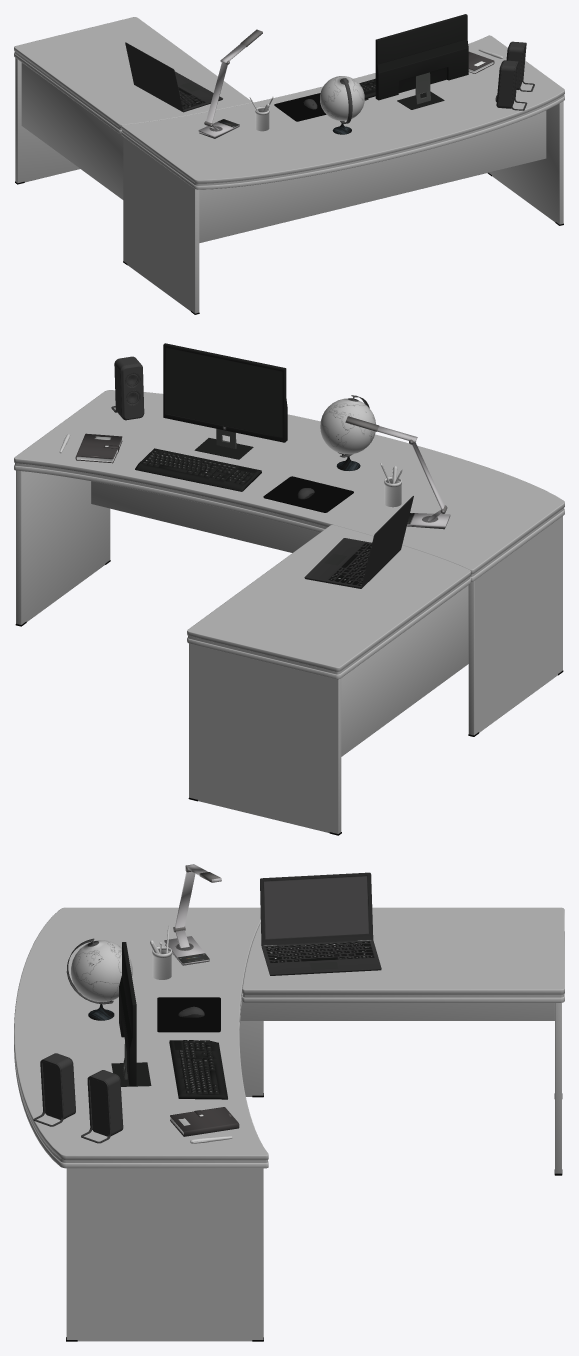
File: bureauComplet.fbx
3 views of the same model, one above another, from view 1: azimuth 30°, elevation 25°; view 2: azimuth 150°, elevation 25°; view 3: azimuth 270°, elevation 25° (orthographic). The views are drawn at different scales.
Parts seen in each view (by area): view 1: ExecutiveDesk, SM_Monitor, SM_Laptop, Globe2, DeskLamp, PCSpeaker01Right, SM_Mousepad, PCSpeaker01Left, Notebook; view 2: ExecutiveDesk, SM_Monitor, SM_Laptop, SM_Keyboard, Globe2, SM_Mousepad, PCSpeaker01Left, DeskLamp, Notebook; view 3: ExecutiveDesk, SM_Laptop, Globe2, SM_Keyboard, SM_Monitor, PCSpeaker01Right, PCSpeaker01Left, SM_Mousepad, DeskLamp, Notebook, SM_PencilPot.
Boxes of the visible parts, bbox=[...] form: ExecutiveDesk: bbox=[14, 17, 564, 314]; SM_Monitor: bbox=[375, 14, 468, 109]; SM_Laptop: bbox=[125, 42, 222, 112]; Globe2: bbox=[320, 76, 364, 134]; DeskLamp: bbox=[198, 29, 262, 138]; PCSpeaker01Right: bbox=[495, 60, 527, 110]; SM_Mousepad: bbox=[274, 93, 326, 121]; PCSpeaker01Left: bbox=[506, 41, 534, 91]; Notebook: bbox=[468, 51, 494, 73]; ExecutiveDesk: bbox=[14, 390, 564, 835]; SM_Monitor: bbox=[163, 343, 287, 459]; SM_Laptop: bbox=[304, 496, 413, 588]; SM_Keyboard: bbox=[135, 448, 261, 491]; Globe2: bbox=[320, 395, 375, 470]; SM_Mousepad: bbox=[263, 476, 353, 512]; PCSpeaker01Left: bbox=[111, 356, 144, 420]; DeskLamp: bbox=[345, 416, 450, 529]; Notebook: bbox=[75, 433, 122, 463]; ExecutiveDesk: bbox=[14, 907, 564, 1341]; SM_Laptop: bbox=[260, 872, 381, 975]; Globe2: bbox=[66, 938, 132, 1020]; SM_Keyboard: bbox=[169, 1040, 227, 1099]; SM_Monitor: bbox=[111, 942, 151, 1086]; PCSpeaker01Right: bbox=[33, 1053, 75, 1126]; PCSpeaker01Left: bbox=[81, 1070, 123, 1143]; SM_Mousepad: bbox=[157, 997, 220, 1032]; DeskLamp: bbox=[164, 864, 221, 965]; Notebook: bbox=[170, 1107, 239, 1136]; SM_PencilPot: bbox=[152, 946, 171, 979].
Size of what is drawn, in the model's own units: 200 by 188 by 111.
